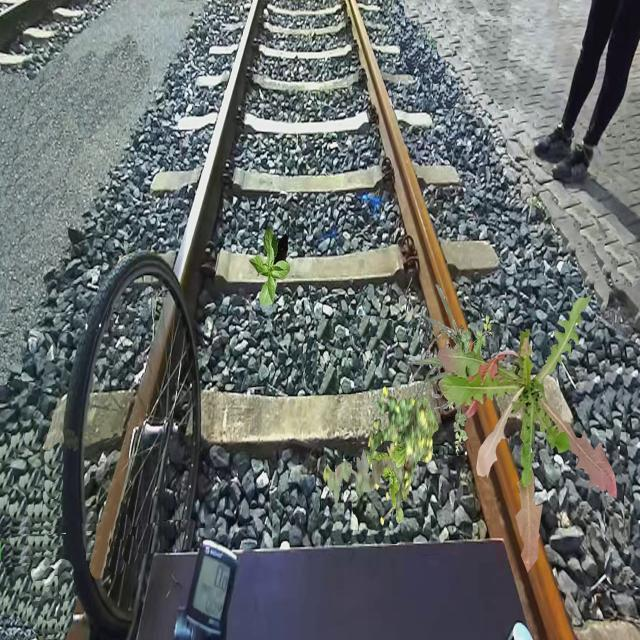Plant: (437, 295, 617, 573), (364, 386, 439, 526), (408, 284, 481, 408), (444, 316, 492, 454), (323, 442, 410, 510), (249, 226, 291, 306), (371, 440, 406, 524)
